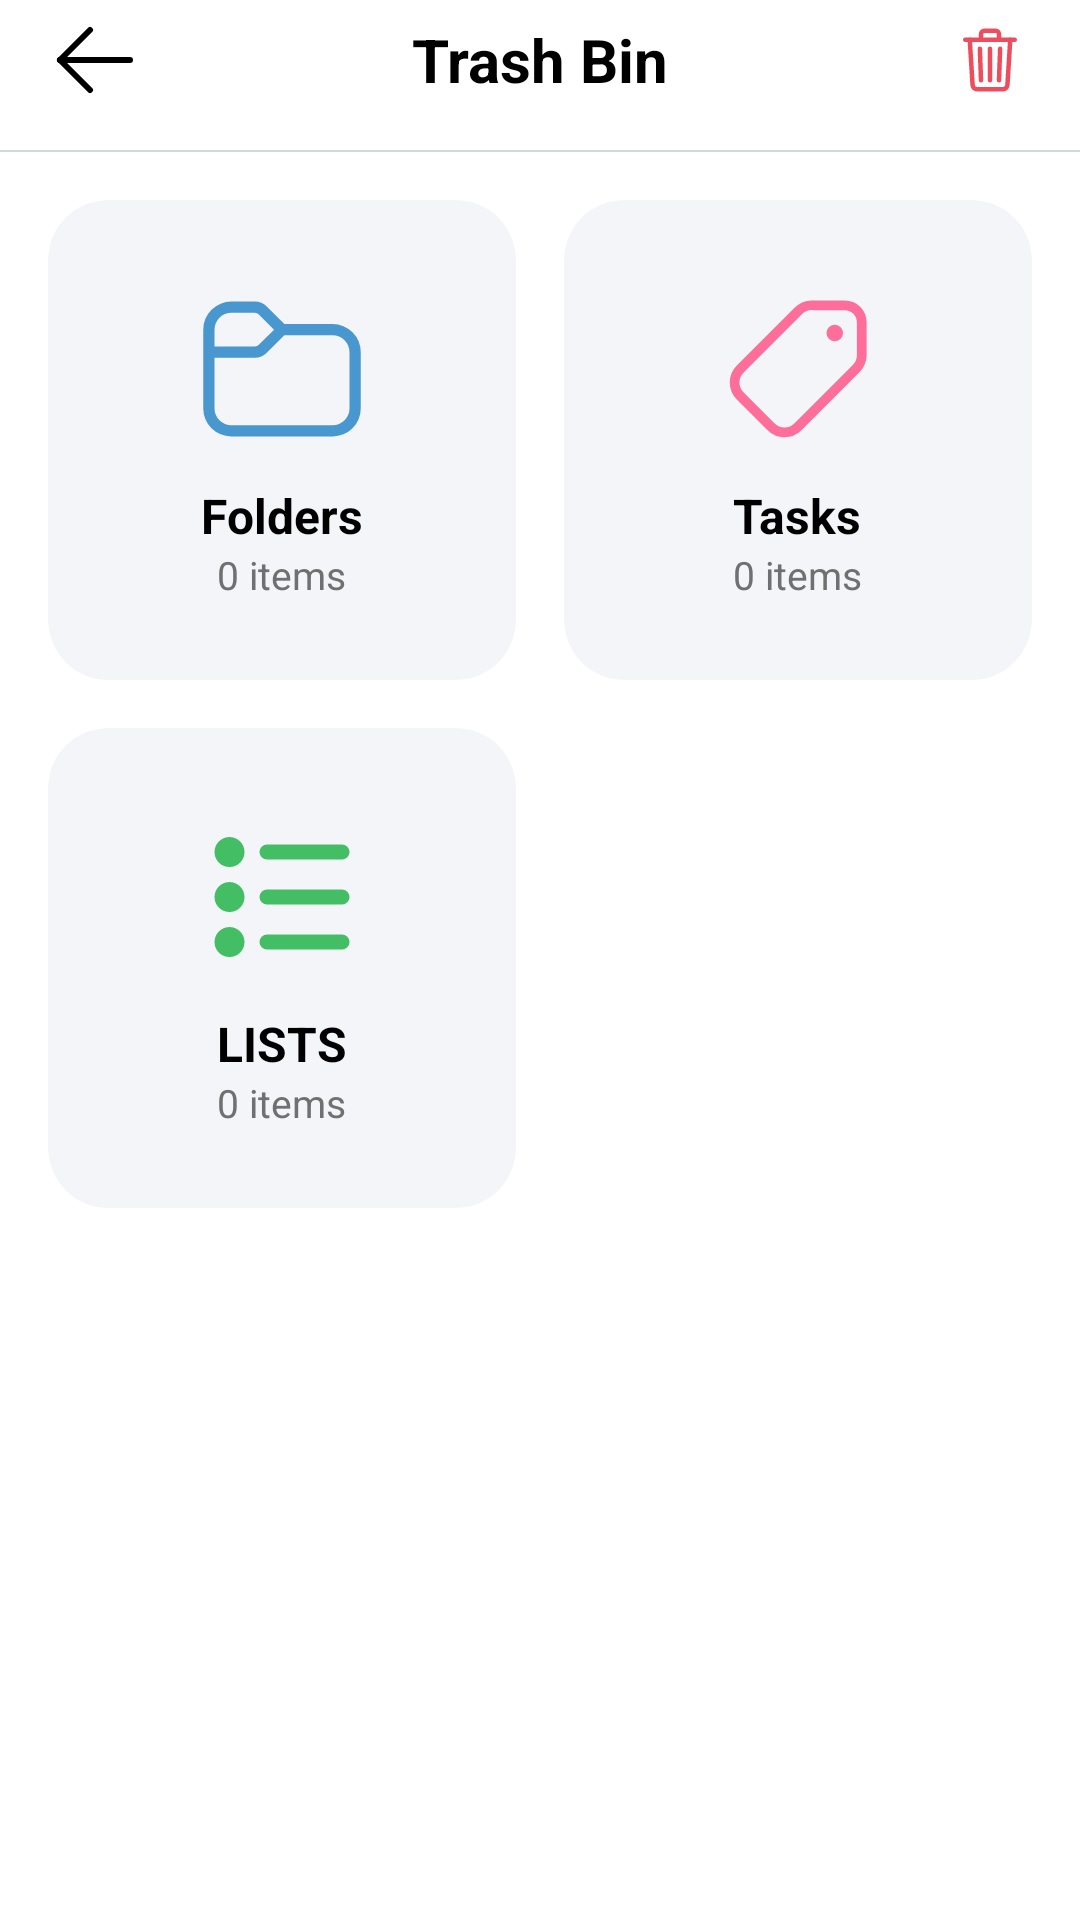

Named icons in this screenshot (1080px x 1920px) and their bounding boxes, (x1, y1, x2, y2):
arrow back: (56, 27, 133, 93)
tag: (729, 300, 867, 438)
